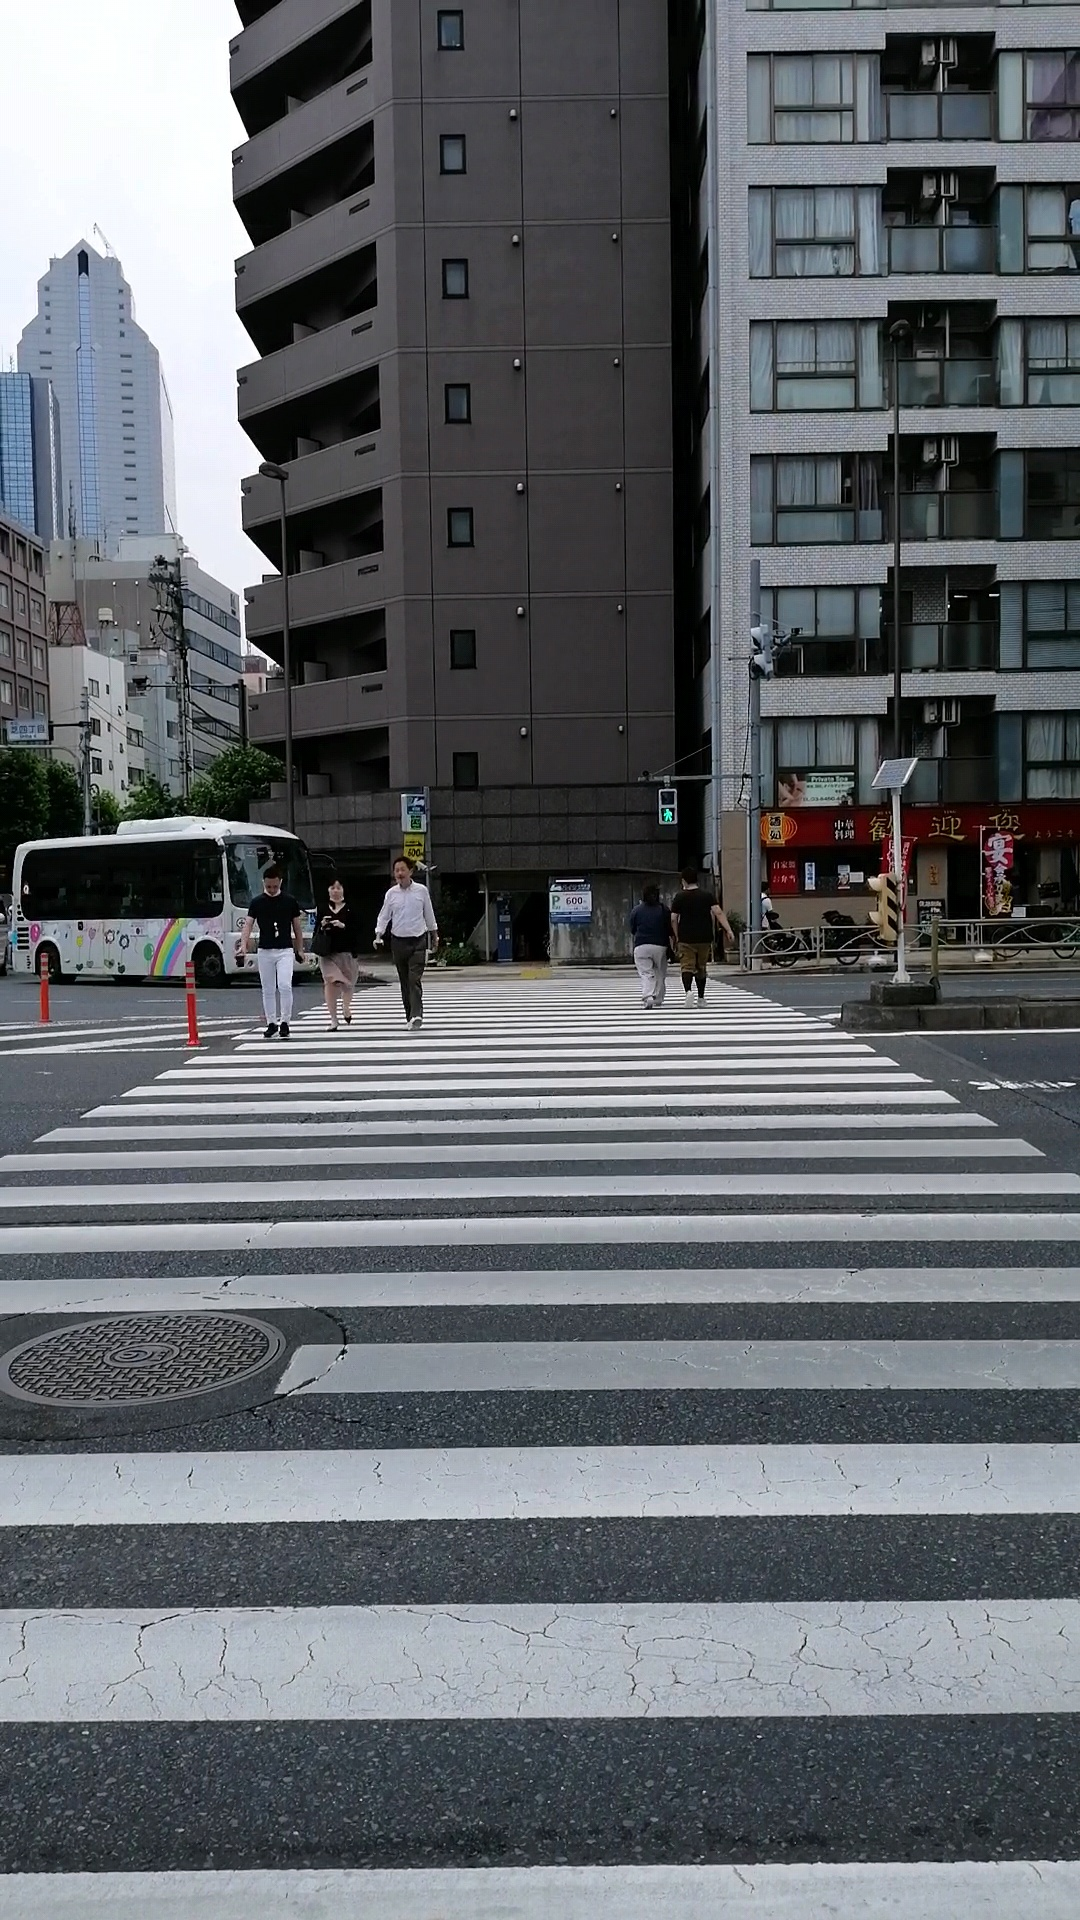green: (657, 786, 678, 825)
